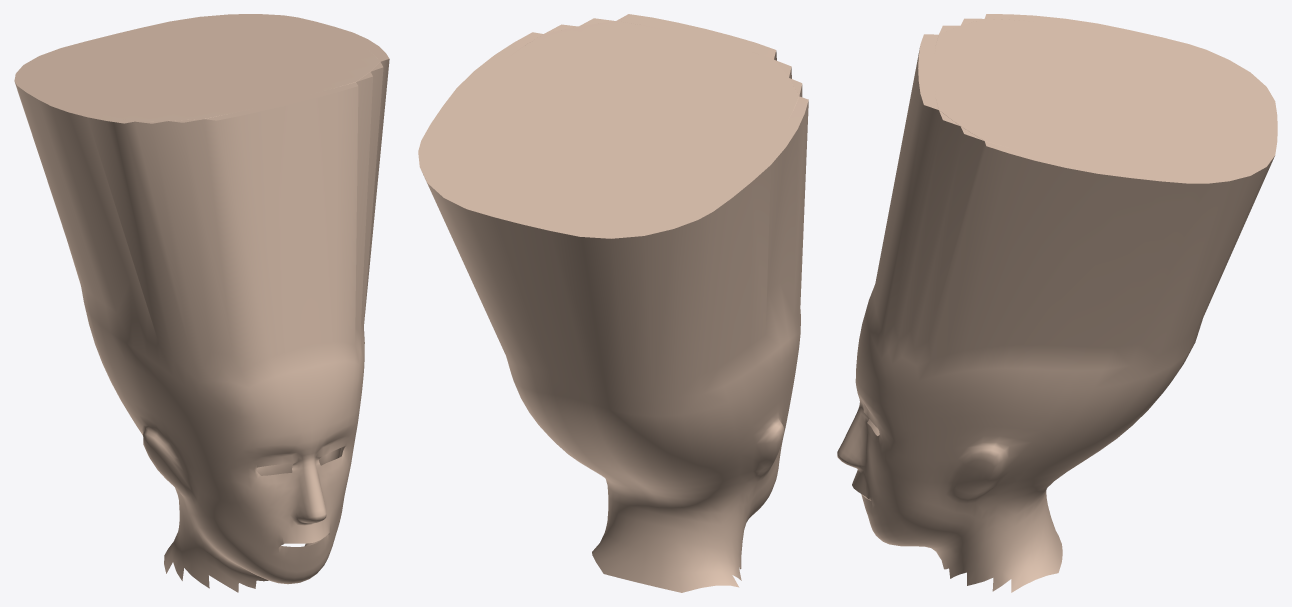
The model's file is Nefertiti_FBX_Bevel.fbx.
3 renders of one model, left to right at view 1: azimuth 30°, elevation 25°; view 2: azimuth 150°, elevation 25°; view 3: azimuth 270°, elevation 25°, orthographic. The views are drawn at different scales.
Parts seen in each view (by area): view 1: BasicHead:basicHead; view 2: BasicHead:basicHead; view 3: BasicHead:basicHead.
Boxes of the visible parts, x1=… form: BasicHead:basicHead: x1=14, y1=14, x2=389, y2=592; BasicHead:basicHead: x1=418, y1=14, x2=808, y2=592; BasicHead:basicHead: x1=837, y1=14, x2=1277, y2=592.
Size of the model in its own units: 154 by 239 by 191.
